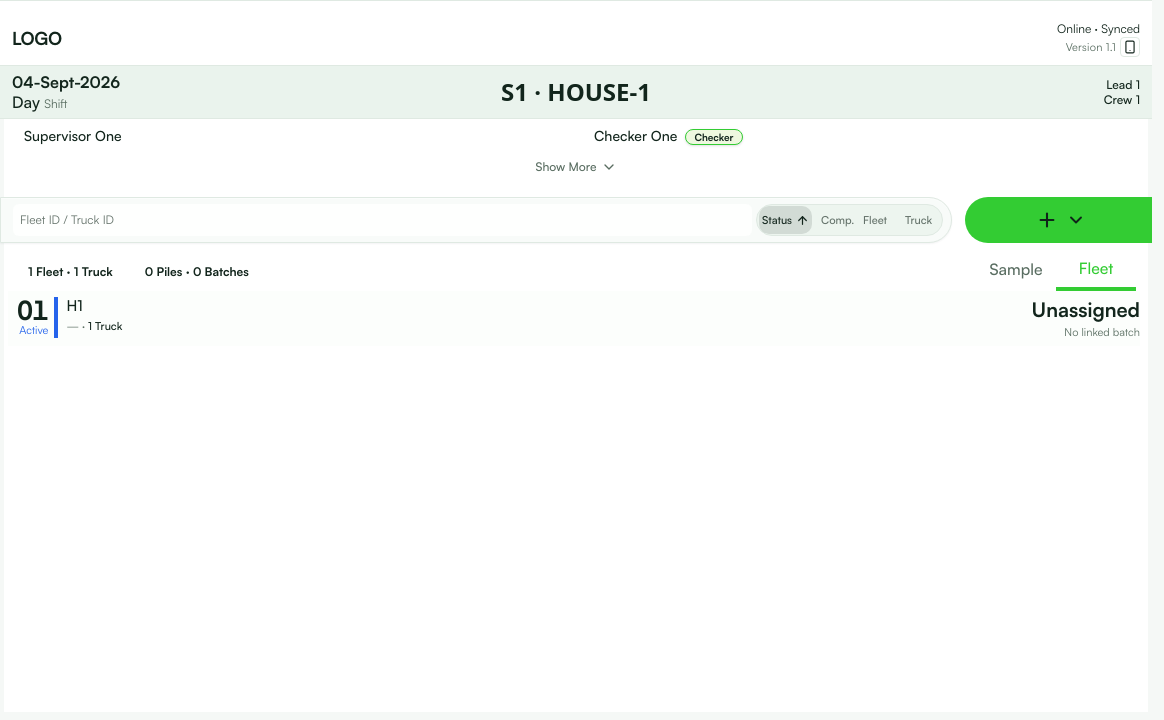
it: RegistrationPage active-shift Setup › shows the three panels, read-only status, and no inline active-shift add controls
The image size is (1164, 720).
Expected: the tab "Fleet" is shown, x1=1056 y1=251 x2=1136 y2=291
Expected: the text "Online · Synced" is shown, x1=1057 y1=21 x2=1140 y2=37
Click the tab "Sample". click: {"x": 1016, "y": 271}
box: x1=976 y1=251 x2=1056 y2=291
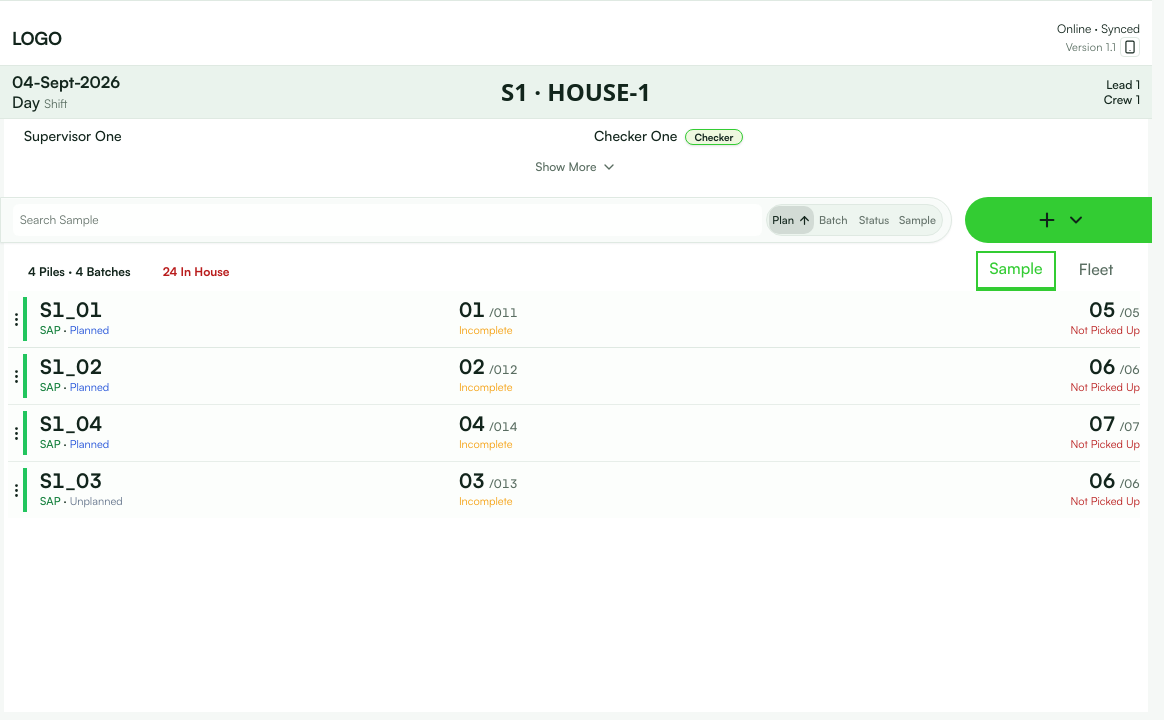
Now the text "S1_01" is shown, box x1=459 y1=297 x2=485 y2=322
Now the element with class "work-setup-sample-list" is shown, box x1=8 y1=291 x2=1140 y2=518
Now the element showing "S1_01 SAP · Planned" is shown, box x1=40 y1=297 x2=109 y2=337
